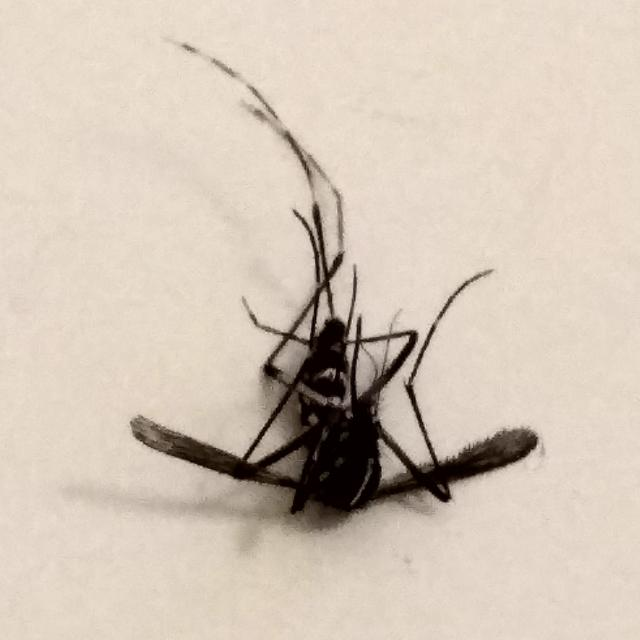albopictus: (125, 84, 531, 526)
